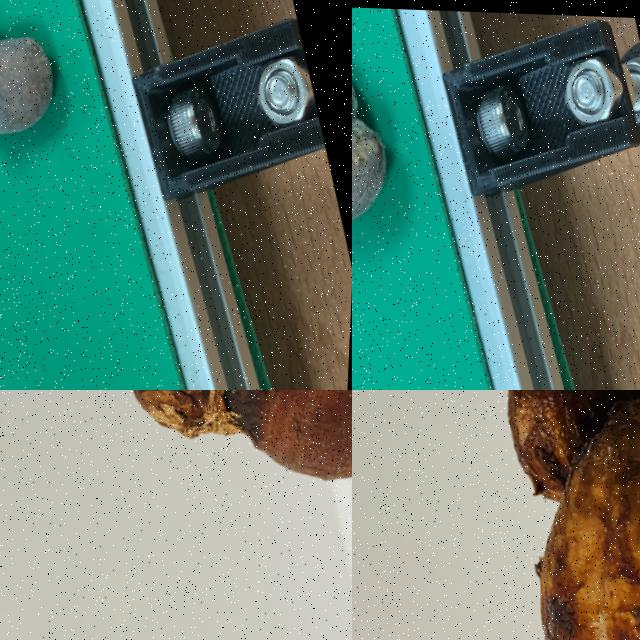Agglomerated_cocoabeans: (413, 390, 639, 639), (40, 390, 351, 557), (0, 0, 161, 310), (352, 1, 471, 367)
